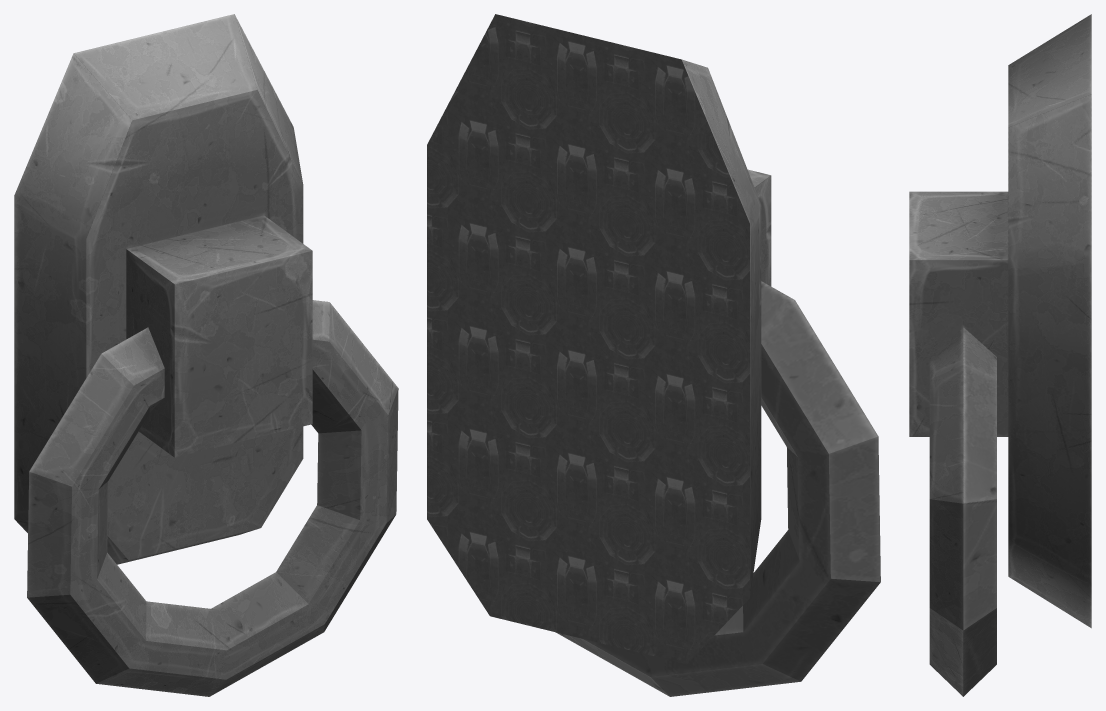
The model's file is AD_DoorHandle_01.fbx.
3 renders of one model, left to right at view 1: azimuth 30°, elevation 25°; view 2: azimuth 150°, elevation 25°; view 3: azimuth 270°, elevation 25°, orthographic. The views are drawn at different scales.
Visible parts, largest first — view 1: AD_DoorHandle_01; view 2: AD_DoorHandle_01; view 3: AD_DoorHandle_01.
Part boxes in pixels (x1,y1,x2,y2): AD_DoorHandle_01: (14,14,398,696); AD_DoorHandle_01: (427,14,880,696); AD_DoorHandle_01: (909,14,1091,696).
Size of the model in its own units: 40.37 by 63.91 by 16.84.
Materials: 1 (1 with a texture image).
